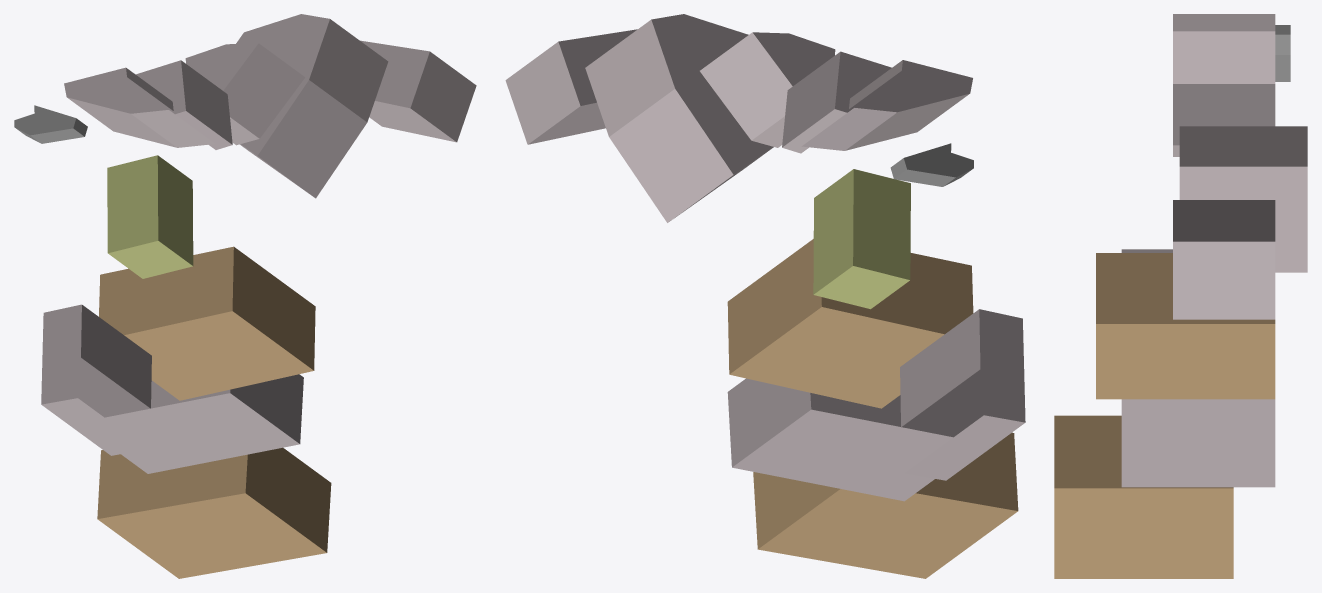
3 renders of one model, left to right at view 1: azimuth 30°, elevation 25°; view 2: azimuth 150°, elevation 25°; view 3: azimuth 270°, elevation 25°, orthographic. The views are drawn at different scales.
Visible parts, largest first — view 1: 0_3_0_1_1_2_0_1; view 2: 0_3_0_1_1_2_0_1; view 3: 0_3_0_1_1_2_0_1.
Part boxes in pixels (box(x1,y1,x2,y2)): 0_3_0_1_1_2_0_1: box(14, 14, 476, 578); 0_3_0_1_1_2_0_1: box(505, 14, 1025, 578); 0_3_0_1_1_2_0_1: box(1054, 14, 1307, 578).
Size of the model in its own units: 60.65 by 61.88 by 29.7.
